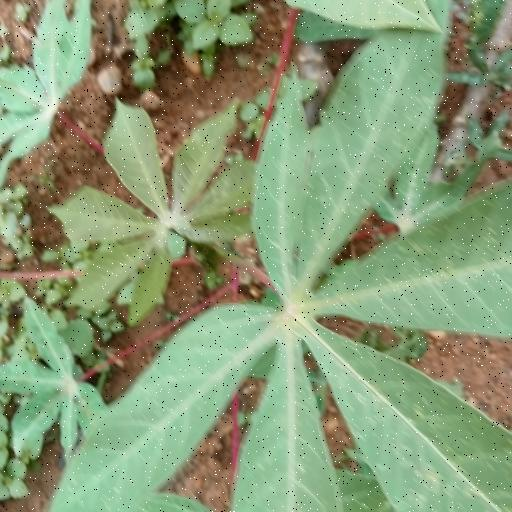Cassava_Mosaic: (112, 53, 512, 512), (46, 94, 250, 298)
